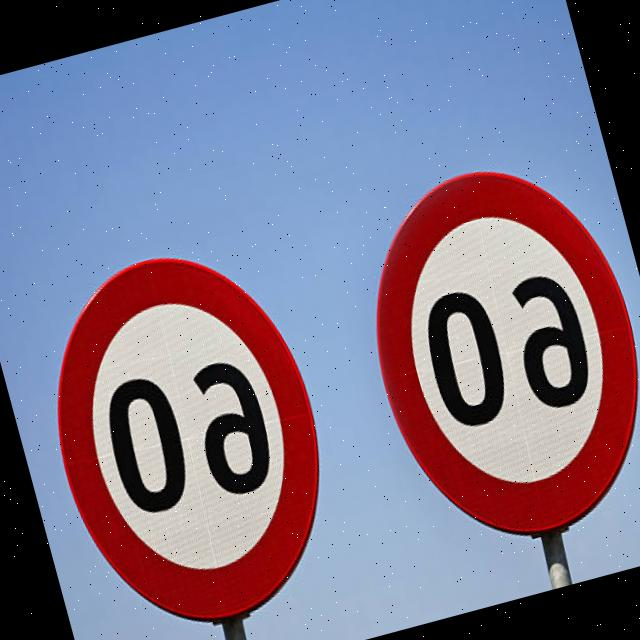speed_limit_60: (17, 221, 364, 640), (331, 135, 640, 566)
